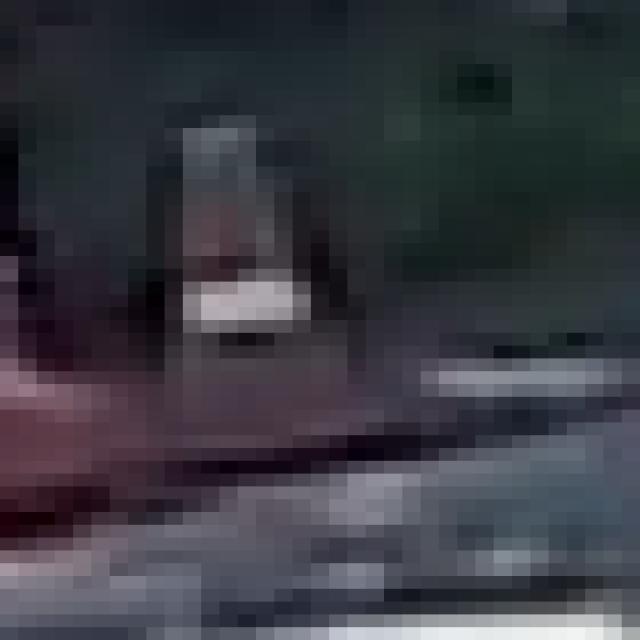small_cone: (102, 123, 456, 495)
